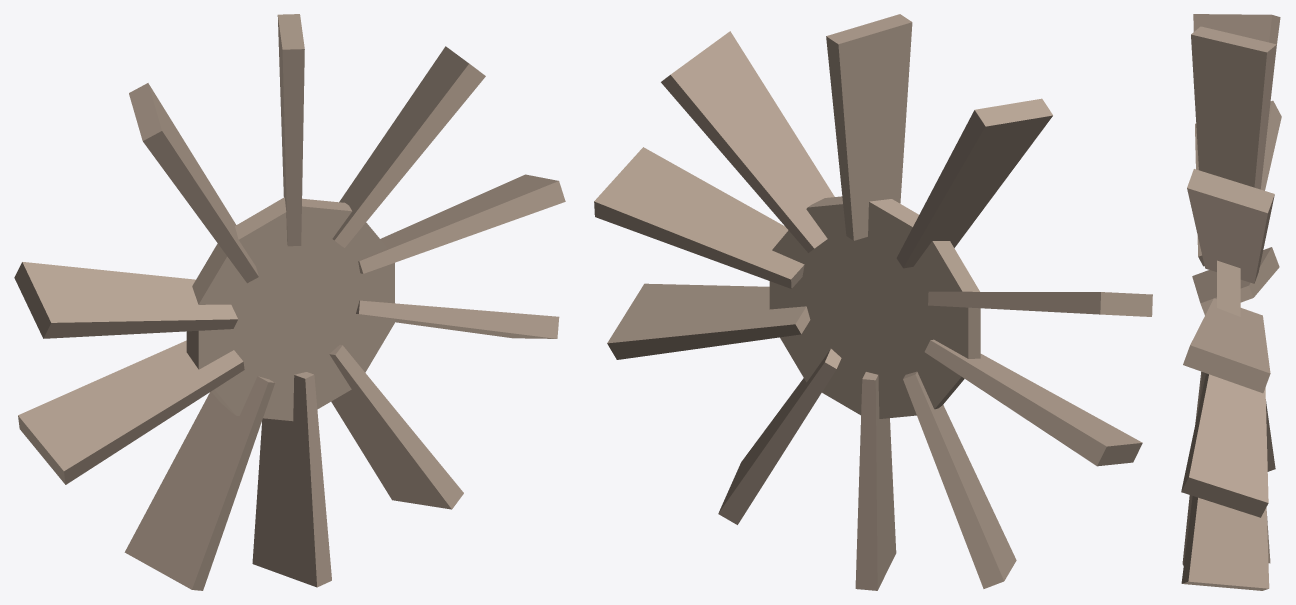
Rendered from windWheel.gltf.
3 views of the same model, side by side, from view 1: azimuth 30°, elevation 25°; view 2: azimuth 150°, elevation 25°; view 3: azimuth 270°, elevation 25° (orthographic). The views are drawn at different scales.
Parts seen in each view (by area): view 1: Cylinder, Cube.003, Cube.004, Cube.007, Cube.001, Cube.010, Cube.002, Cube.005, Cube.008, Cube.009, Cube.006; view 2: Cylinder, Cube.010, Cube.009, Cube.005, Cube.006, Cube.008, Cube.004, Cube.003, Cube.001, Cube.002, Cube.007; view 3: Cube.009, Cube.006, Cube.002, Cube.010, Cube.005, Cube.008, Cube.004, Cylinder, Cube.007, Cube.003, Cube.001.
Part boxes in pixels (x1,y1,x2,y2): Cylinder: (186,197,394,421); Cube.003: (124,376,274,590); Cube.004: (18,340,244,484); Cube.007: (14,262,238,338); Cube.001: (252,372,331,587); Cube.010: (332,46,485,247); Cube.002: (329,344,463,509); Cube.005: (358,174,565,273); Cube.008: (129,83,258,283); Cube.009: (277,14,304,246); Cube.006: (356,300,559,338); Cylinder: (769,196,980,418); Cube.010: (661,31,834,252); Cube.009: (826,14,912,240); Cube.005: (594,147,804,288); Cube.006: (607,283,810,359); Cube.008: (896,98,1052,268); Cube.004: (924,339,1142,466); Cube.003: (903,371,1016,588); Cube.001: (855,372,896,590); Cube.002: (718,349,841,524); Cube.007: (928,291,1152,316); Cube.009: (1191,26,1276,189); Cube.006: (1181,373,1268,517); Cube.002: (1181,496,1269,590); Cube.010: (1187,169,1274,283); Cube.005: (1183,298,1270,393); Cube.008: (1193,14,1280,170); Cube.004: (1192,247,1279,315); Cylinder: (1217,260,1240,316); Cube.007: (1195,100,1281,266); Cube.003: (1195,371,1275,471); Cube.001: (1182,372,1270,565).
Bounding box in the file's own units: 3.85 × 3.82 × 0.6607.
